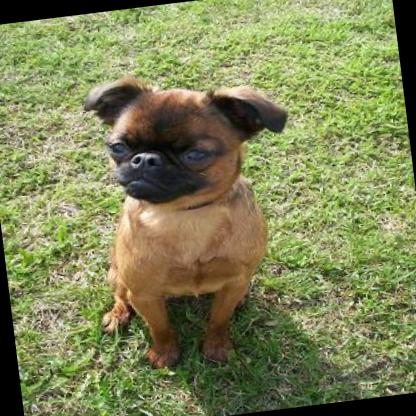Brabancon_griffon: (74, 57, 316, 381)
